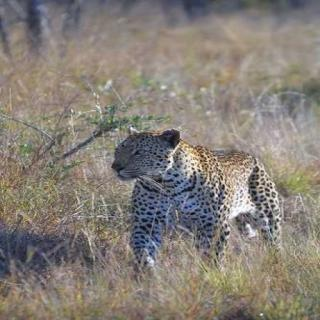Leopard: (82, 98, 301, 274)
